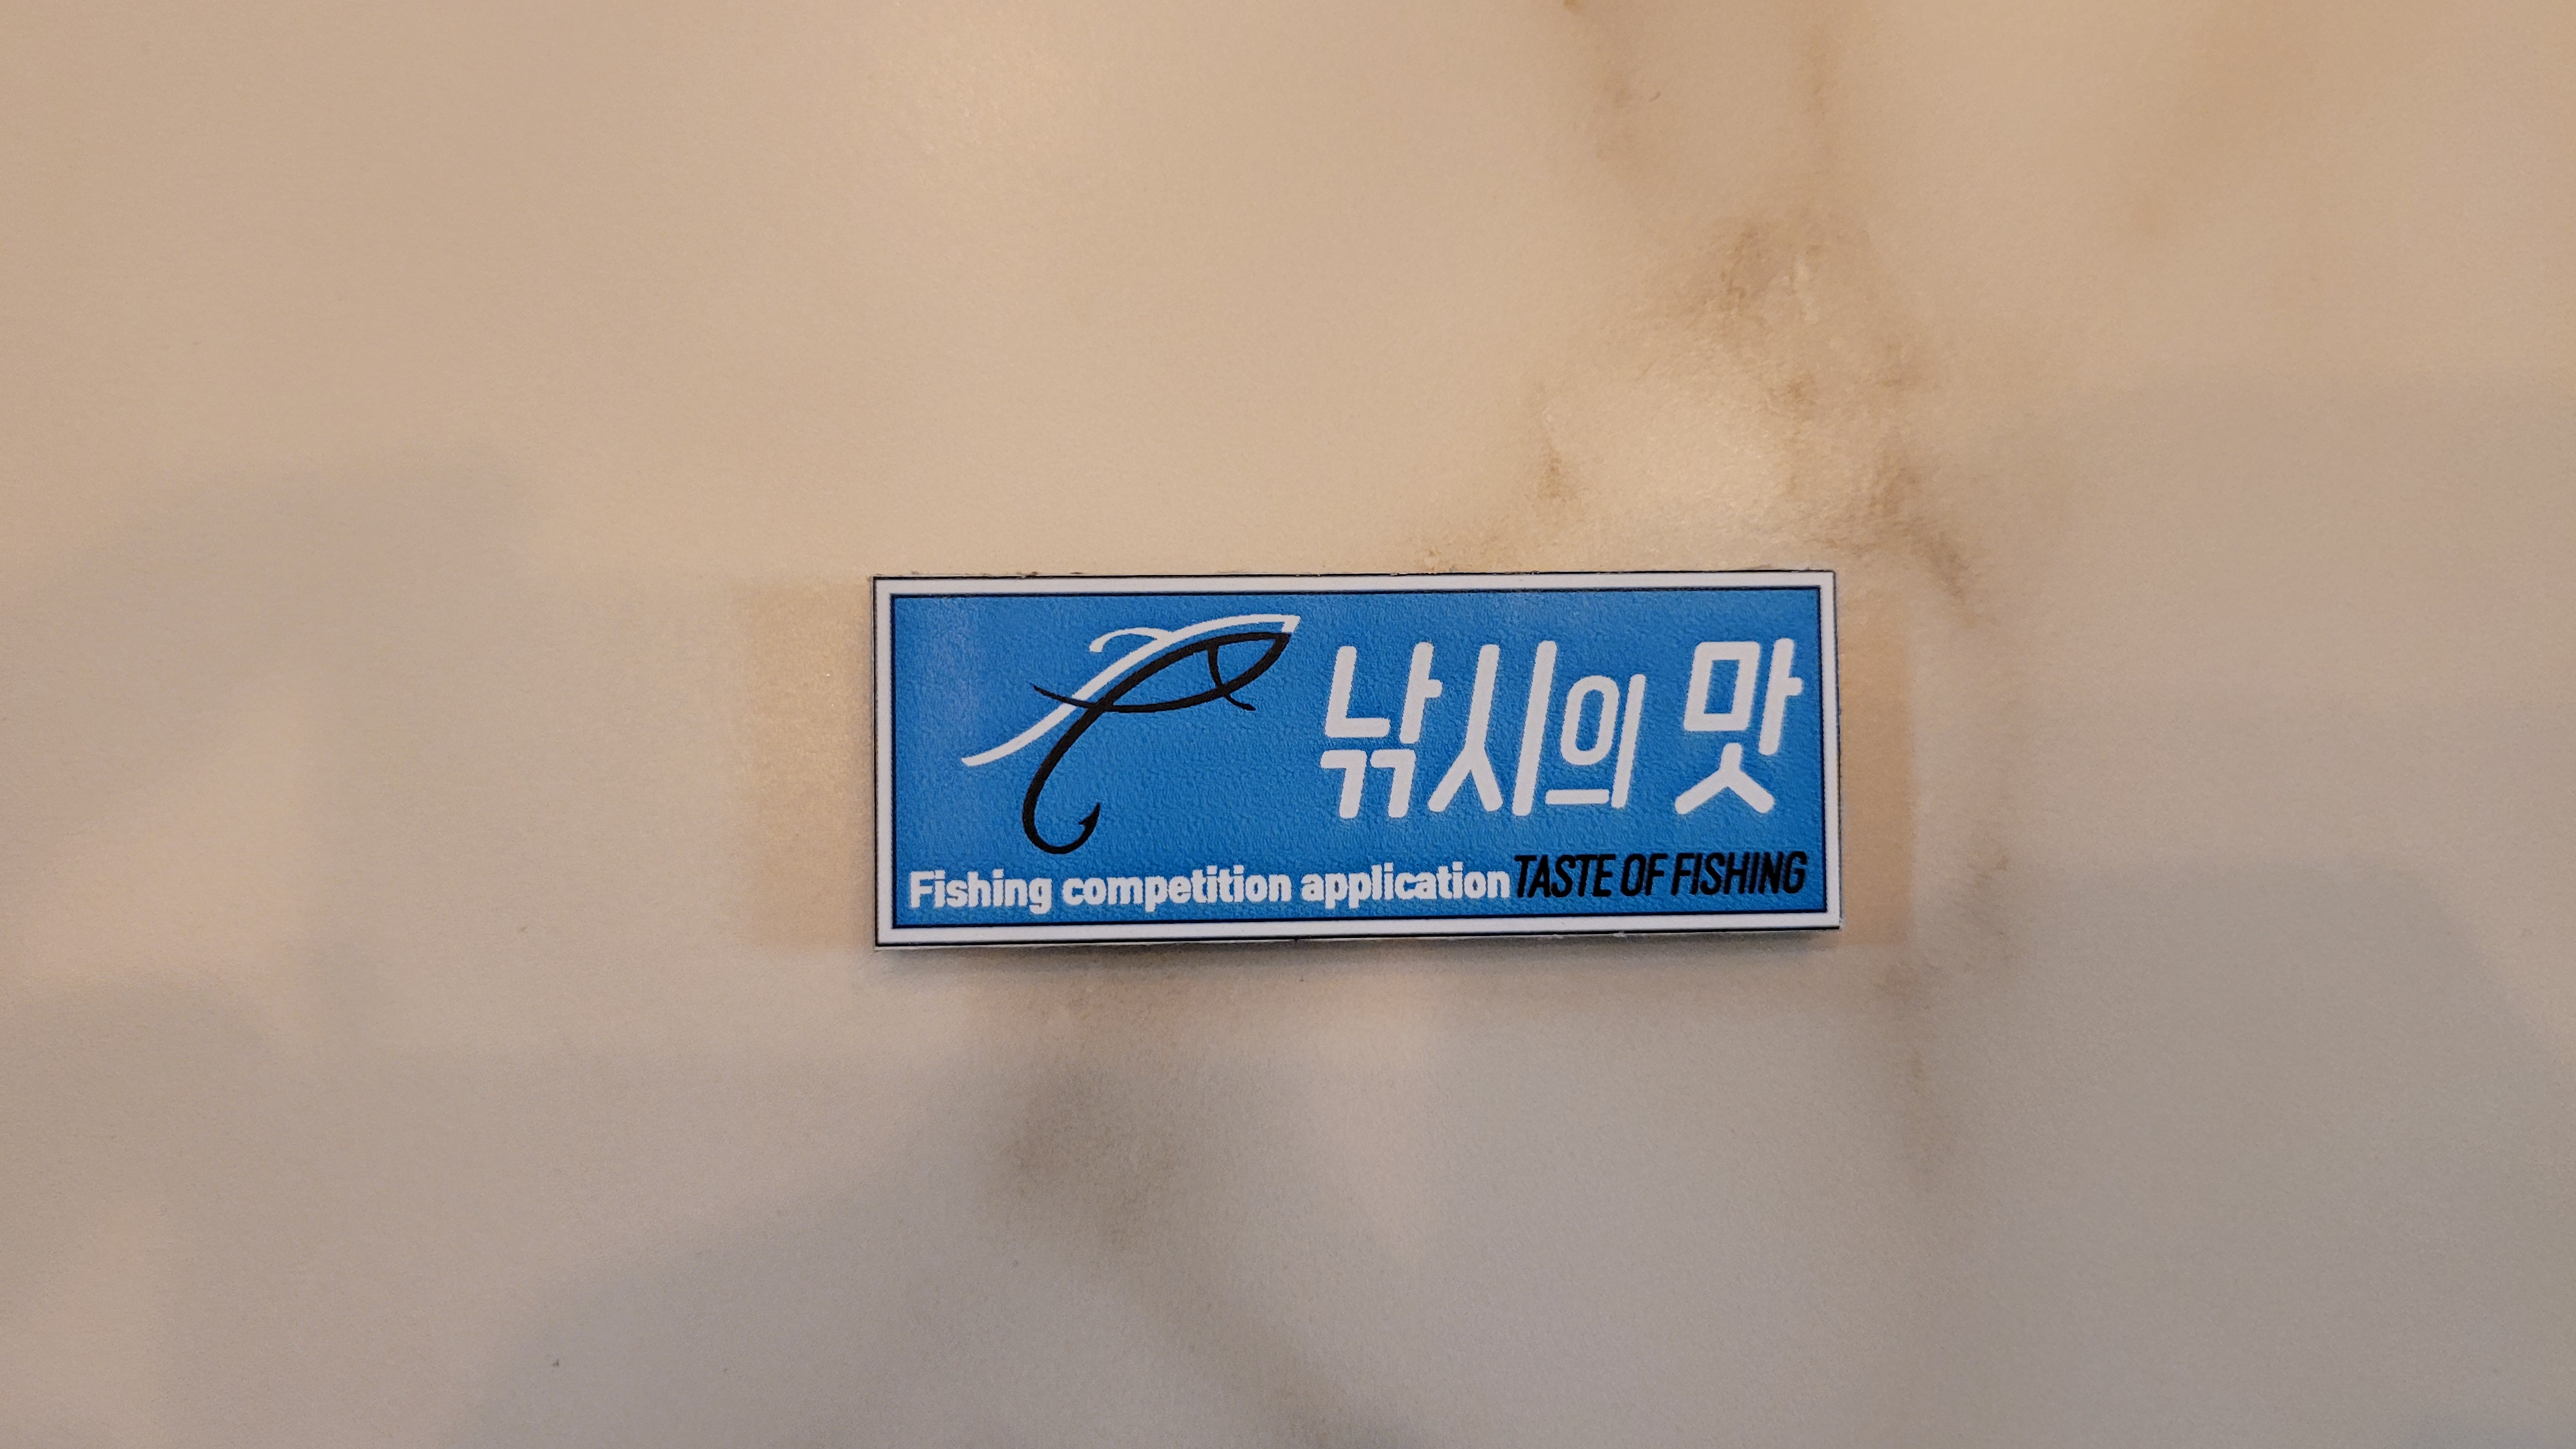tag: (869, 575, 1842, 938)
